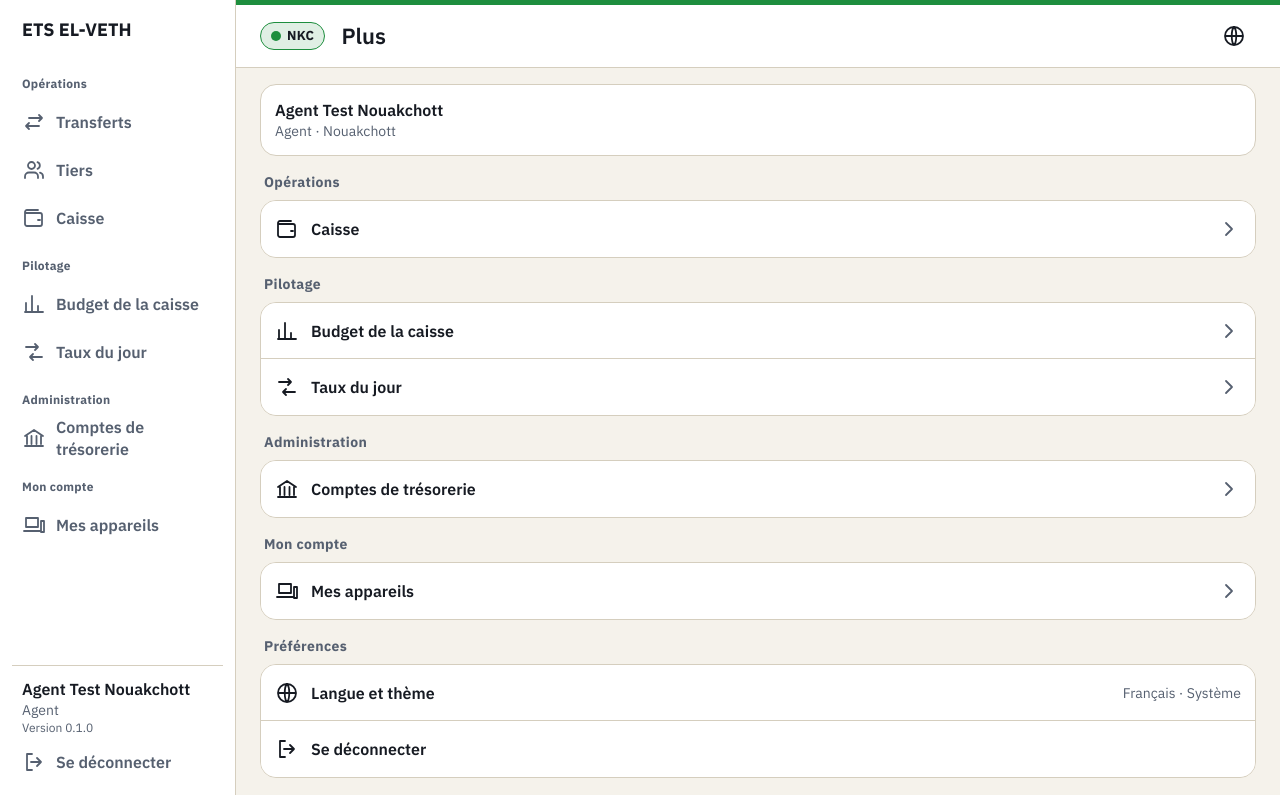
Test case: AppShell › liste dans « Plus » seulement les écrans permis, puis se déconnecte
The width and height of the screenshot is (1280, 795).
Expected: the heading "Opérations" is shown, [264, 173, 340, 191]
Expected: the link "Taux du jour" below "Plus" is shown, [261, 359, 1255, 415]
Click the button "Se déconnecter" below "Préférences" at (369, 749), box [261, 721, 1255, 777]
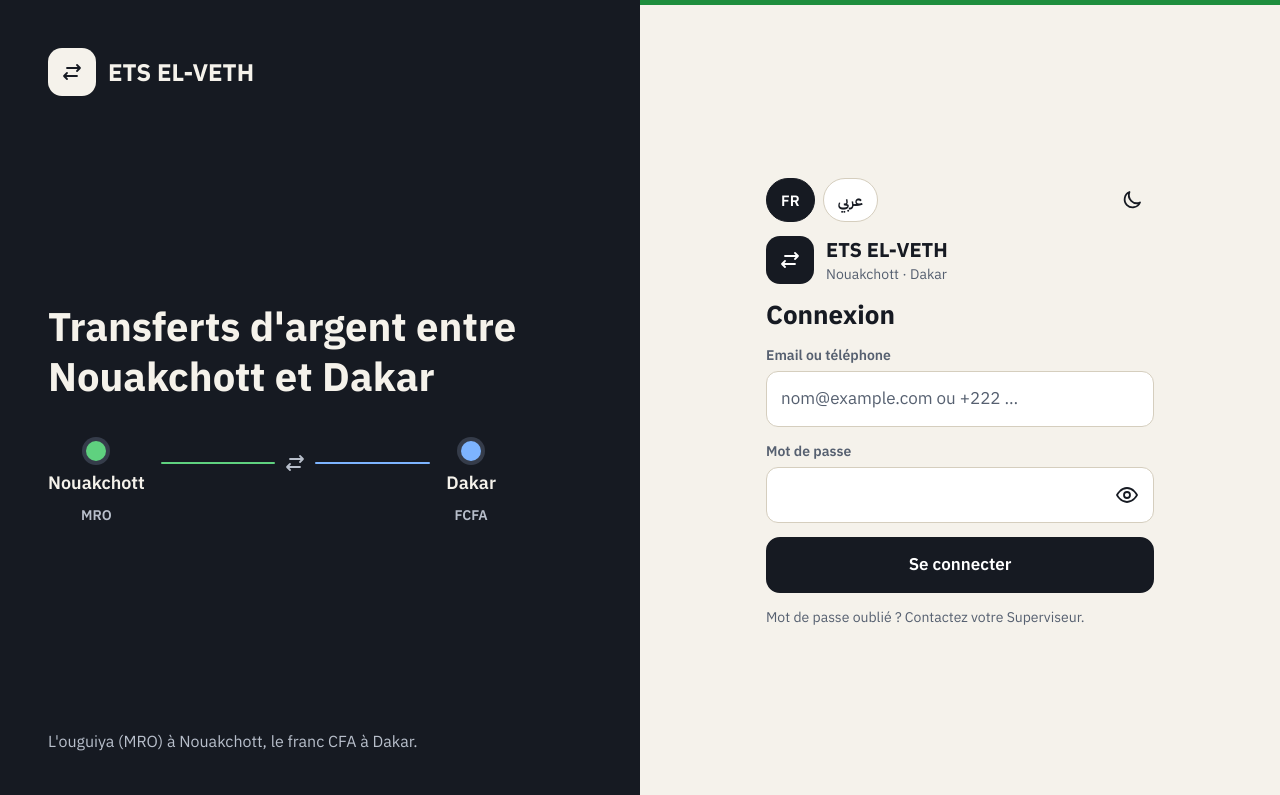
Now the heading "Connexion" is shown, box [766, 297, 895, 331]
